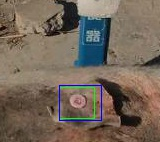text: (59, 87, 94, 118)
